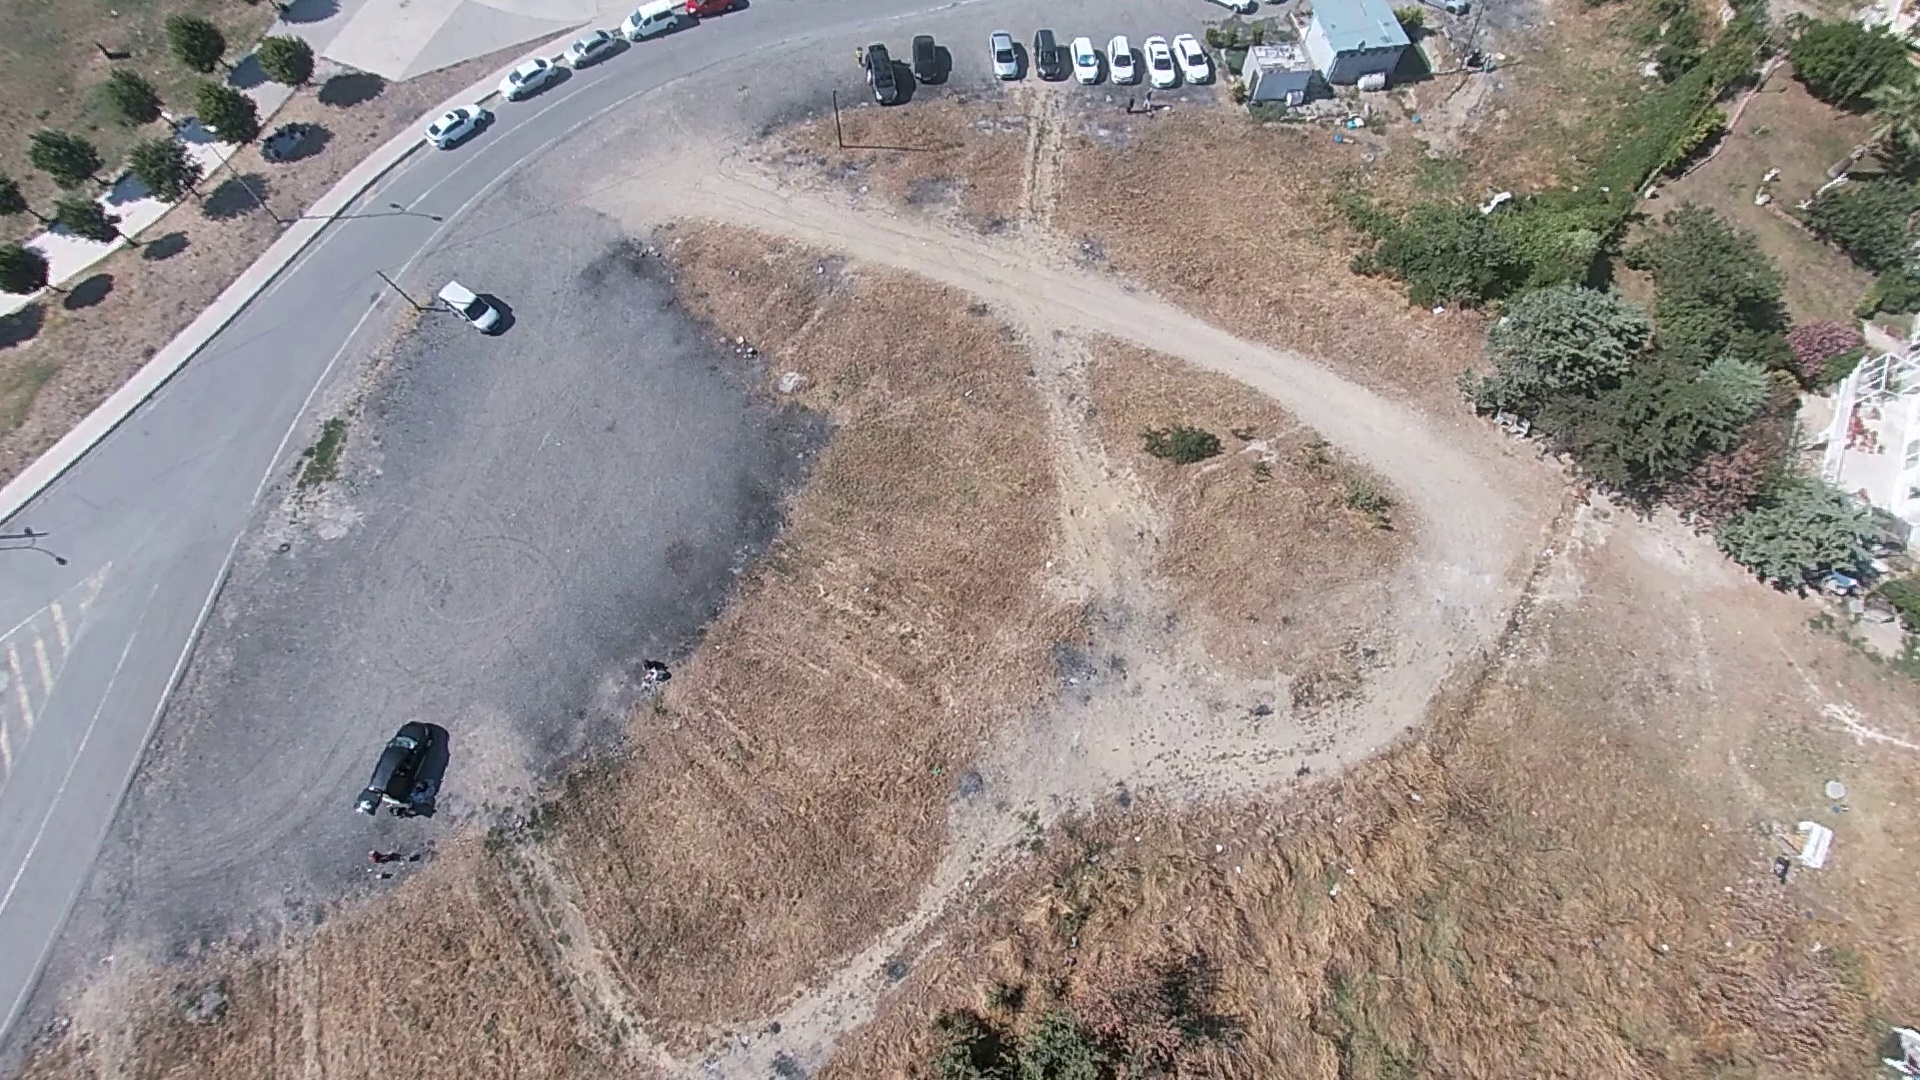arac: (352, 720, 444, 823), (442, 278, 513, 333), (425, 97, 494, 150), (500, 49, 567, 97), (990, 25, 1020, 77)
insan: (636, 661, 674, 694), (1773, 853, 1794, 892)
